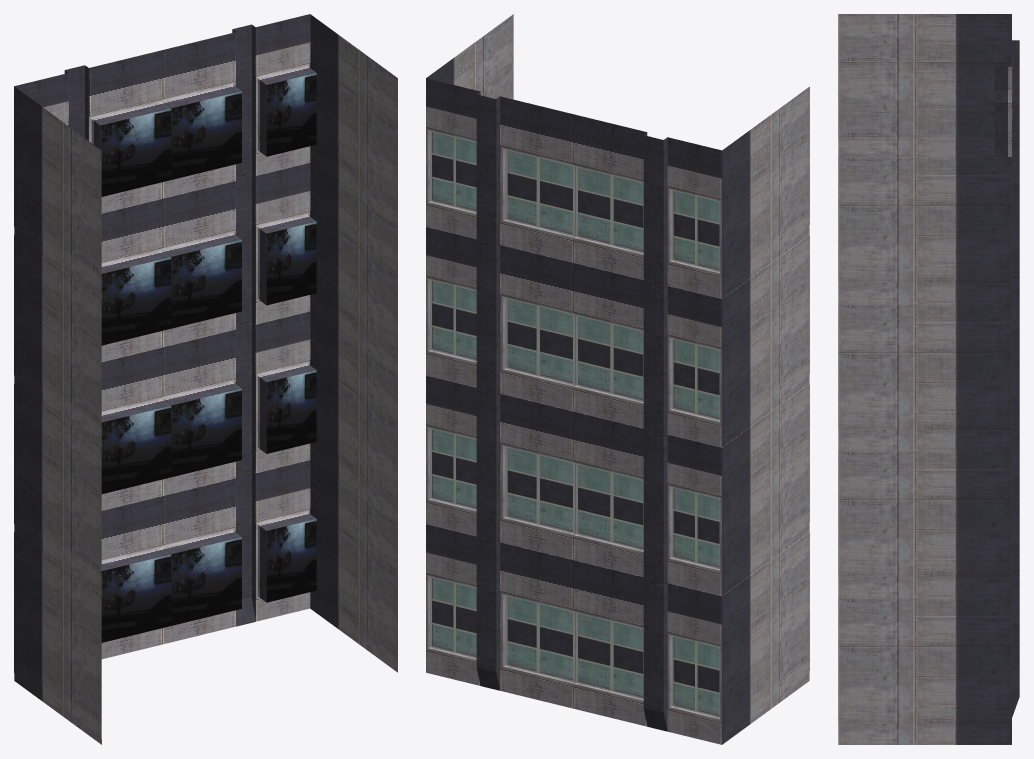
Rendered from Building_08_Part_2.fbx.
The picture shows the model from 3 angles, left to right: view 1: azimuth 30°, elevation 25°; view 2: azimuth 150°, elevation 25°; view 3: azimuth 270°, elevation 25°; orthographic projection.
Parts seen in each view (by area): view 1: Building_08_Part_2; view 2: Building_08_Part_2; view 3: Building_08_Part_2.
Boxes of the visible parts, box(x1,y1,x2,y2) form: Building_08_Part_2: box(14, 14, 397, 744); Building_08_Part_2: box(426, 14, 809, 744); Building_08_Part_2: box(838, 14, 1019, 744).
Bounding box in the file's own units: 1395 × 2676 × 747.
